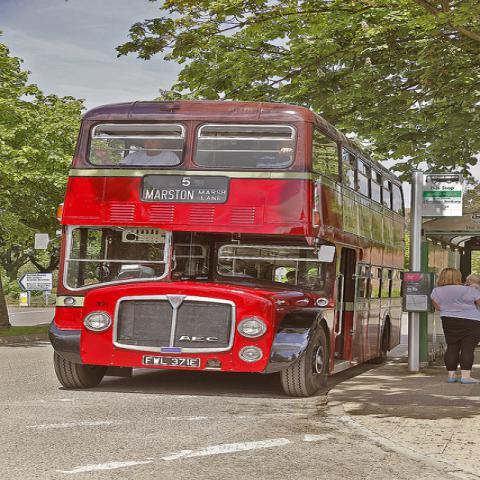bus: (45, 98, 409, 396)
